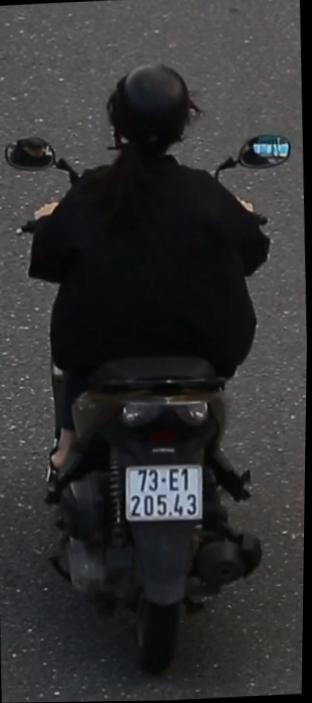LP: (122, 454, 211, 529)
helmet: (104, 54, 199, 162)
